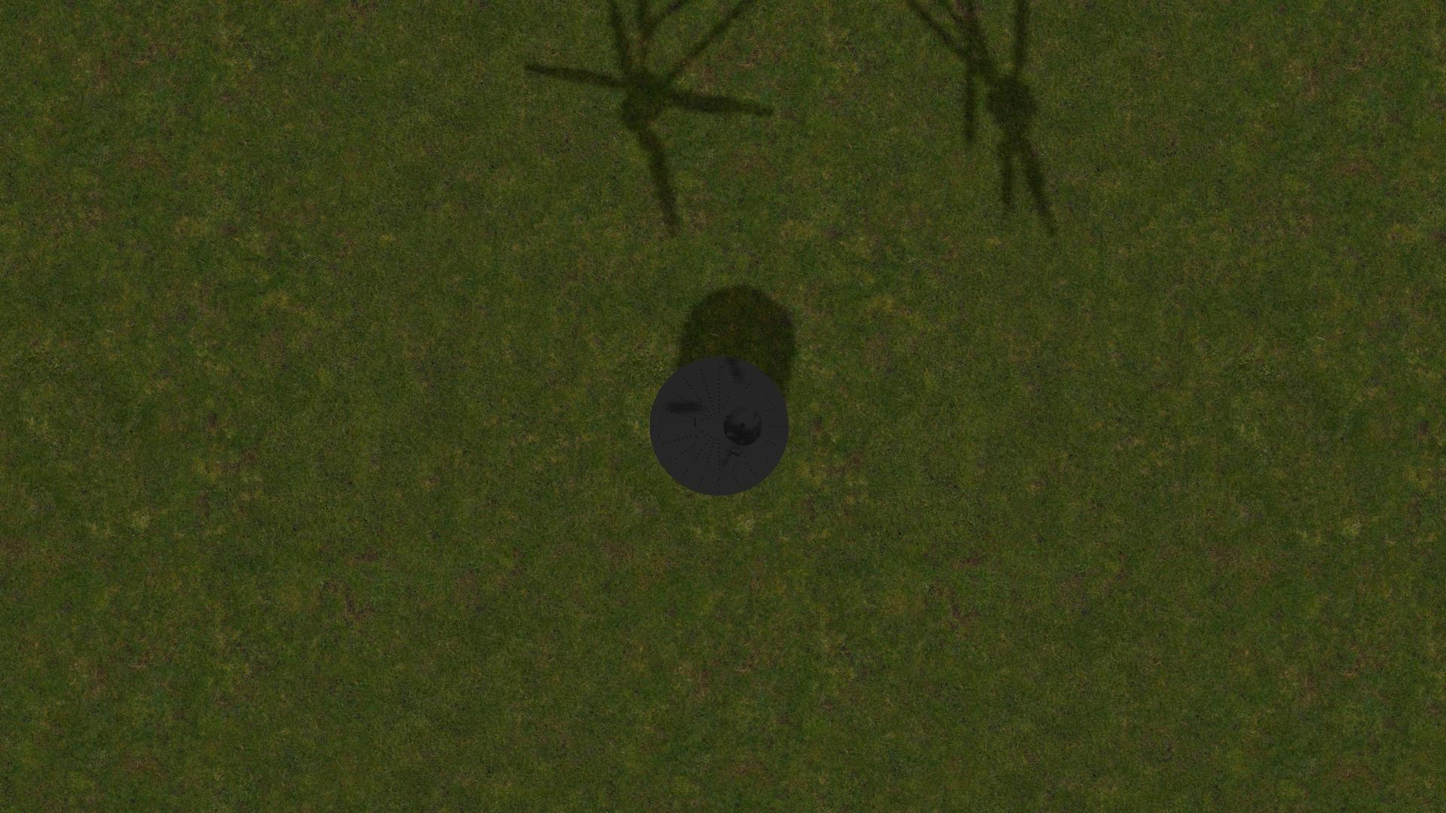alca: (715, 447, 741, 489), (717, 361, 741, 403), (657, 418, 700, 428)
armadilha: (650, 356, 789, 496)
